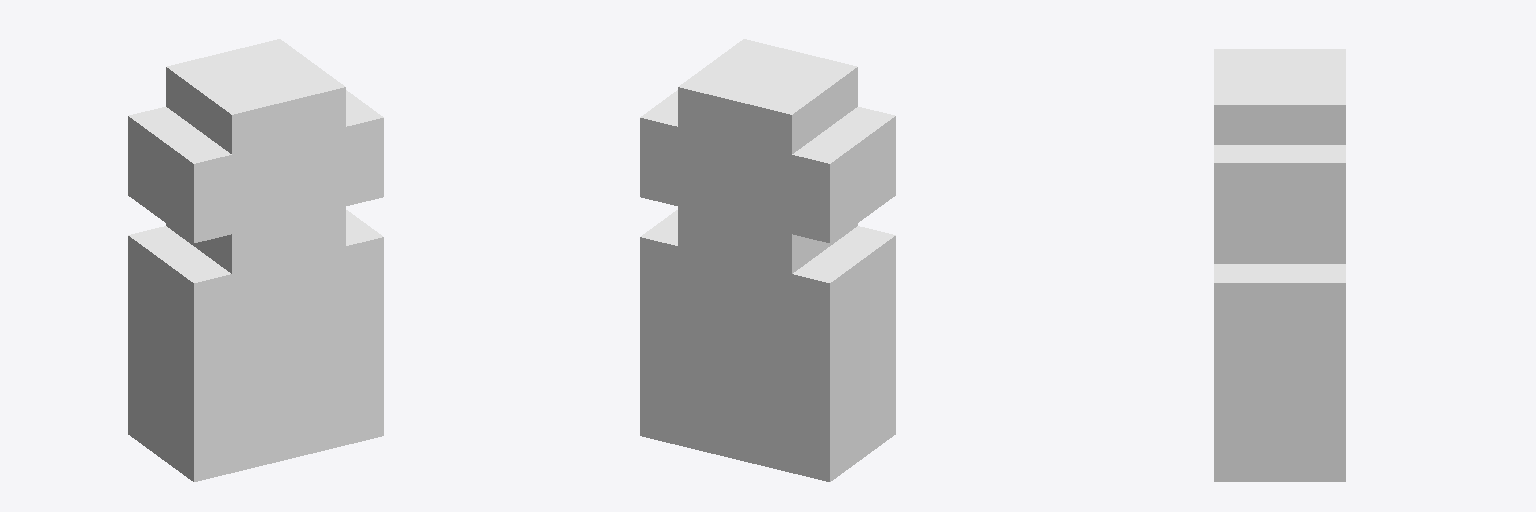
Rendered from RyssBody.obj.
The picture shows the model from 3 angles: view 1: azimuth 30°, elevation 25°; view 2: azimuth 150°, elevation 25°; view 3: azimuth 270°, elevation 25°; orthographic projection.
Size of the model in its own units: 5 by 9 by 3.